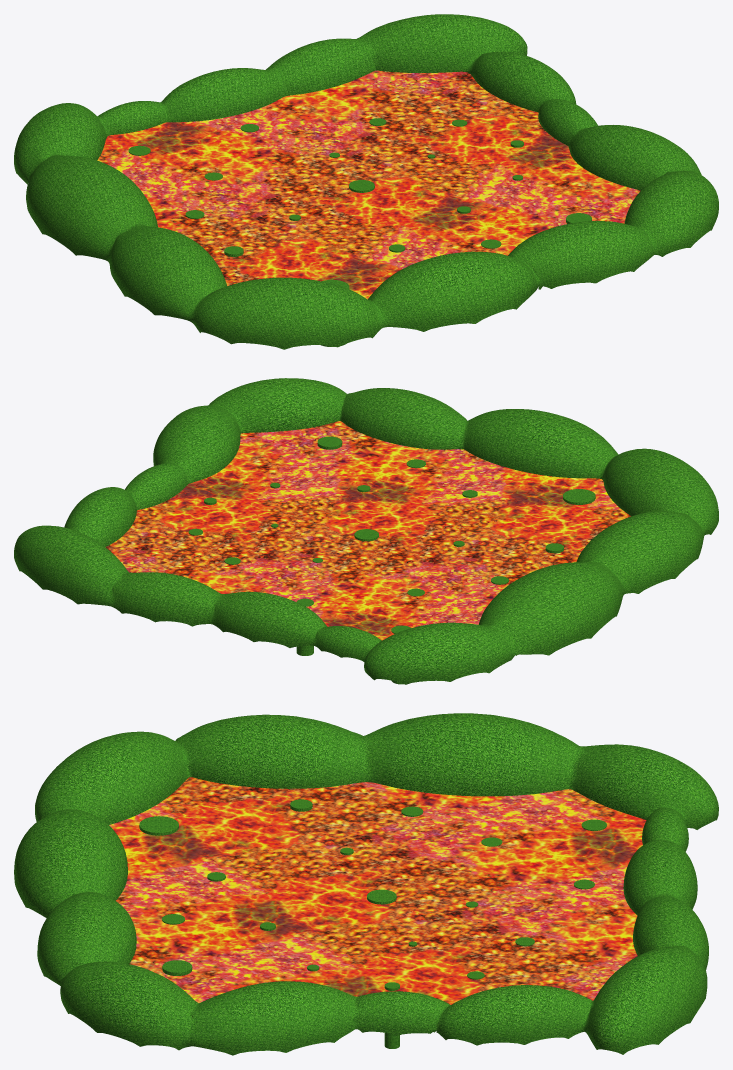
Rendered from teren.glb.
The picture shows the model from 3 angles, top to bottom: view 1: azimuth 30°, elevation 25°; view 2: azimuth 150°, elevation 25°; view 3: azimuth 270°, elevation 25°; orthographic projection. The views are drawn at different scales.
Parts seen in each view (by area): view 1: Icosphere.013, Plane, Cylinder; view 2: Icosphere.013, Plane, Cylinder; view 3: Icosphere.013, Plane, Cylinder.
Part boxes in pixels (x1,y1,x2,y2): Icosphere.013: [14, 14, 718, 349]; Plane: [97, 70, 640, 299]; Cylinder: [128, 118, 591, 346]; Icosphere.013: [14, 378, 718, 684]; Plane: [105, 421, 630, 640]; Cylinder: [188, 436, 595, 684]; Icosphere.013: [14, 713, 718, 1055]; Plane: [109, 777, 646, 1004]; Cylinder: [139, 799, 606, 1048].
Size of the model in its own units: 382 by 63.06 by 369.
Materials: 2 (2 with a texture image).
